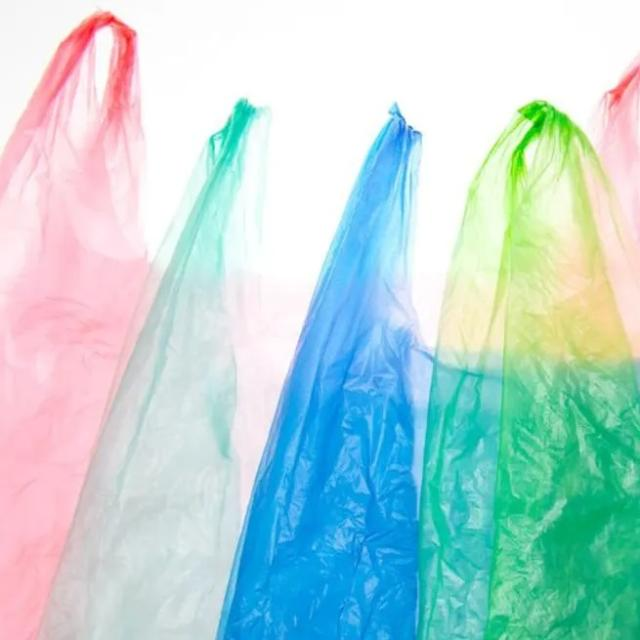Single-layer Plastic: (39, 100, 261, 640), (420, 102, 640, 639), (218, 106, 432, 639), (0, 12, 148, 639)
